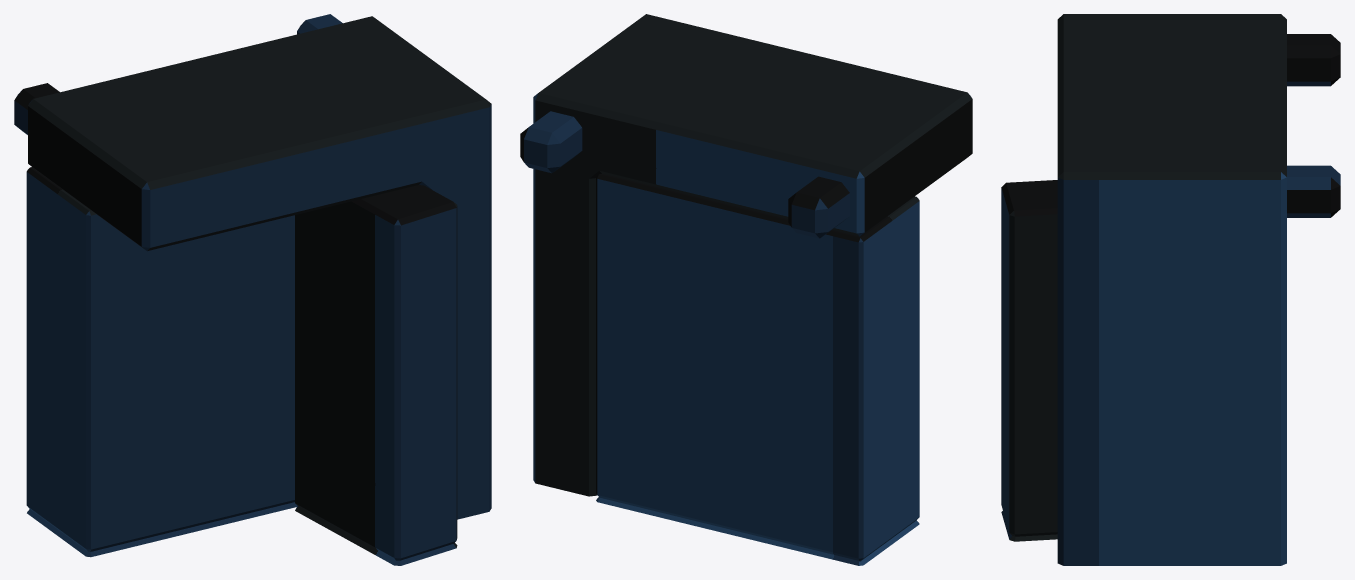
The picture shows the model from 3 angles, left to right: view 1: azimuth 30°, elevation 25°; view 2: azimuth 150°, elevation 25°; view 3: azimuth 270°, elevation 25°; orthographic projection. The views are drawn at different scales.
Bounding box in the file's own units: 0.8619 × 0.9742 × 0.7579.
